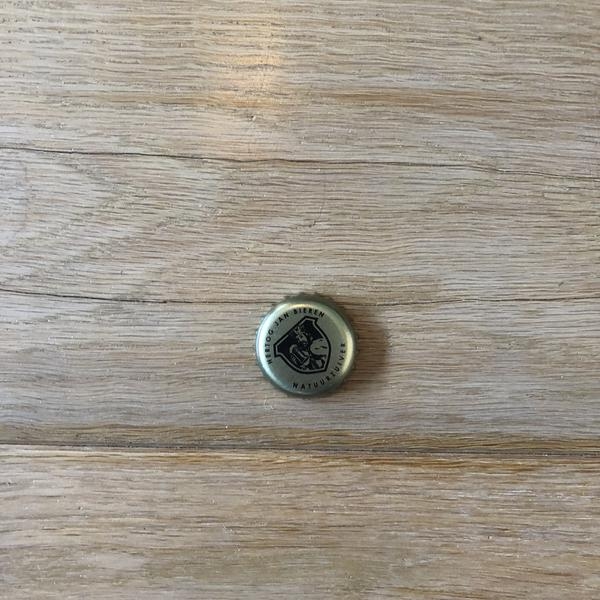hertogjan: (253, 291, 361, 404)
